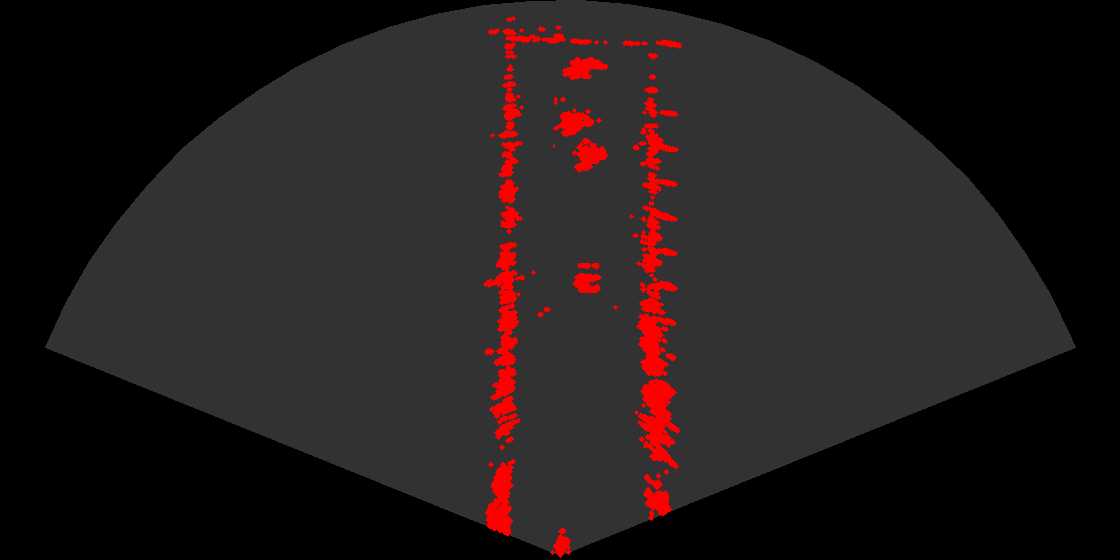AUV: (556, 55, 612, 87)
ball: (553, 255, 613, 296)
cage: (553, 97, 616, 181)
